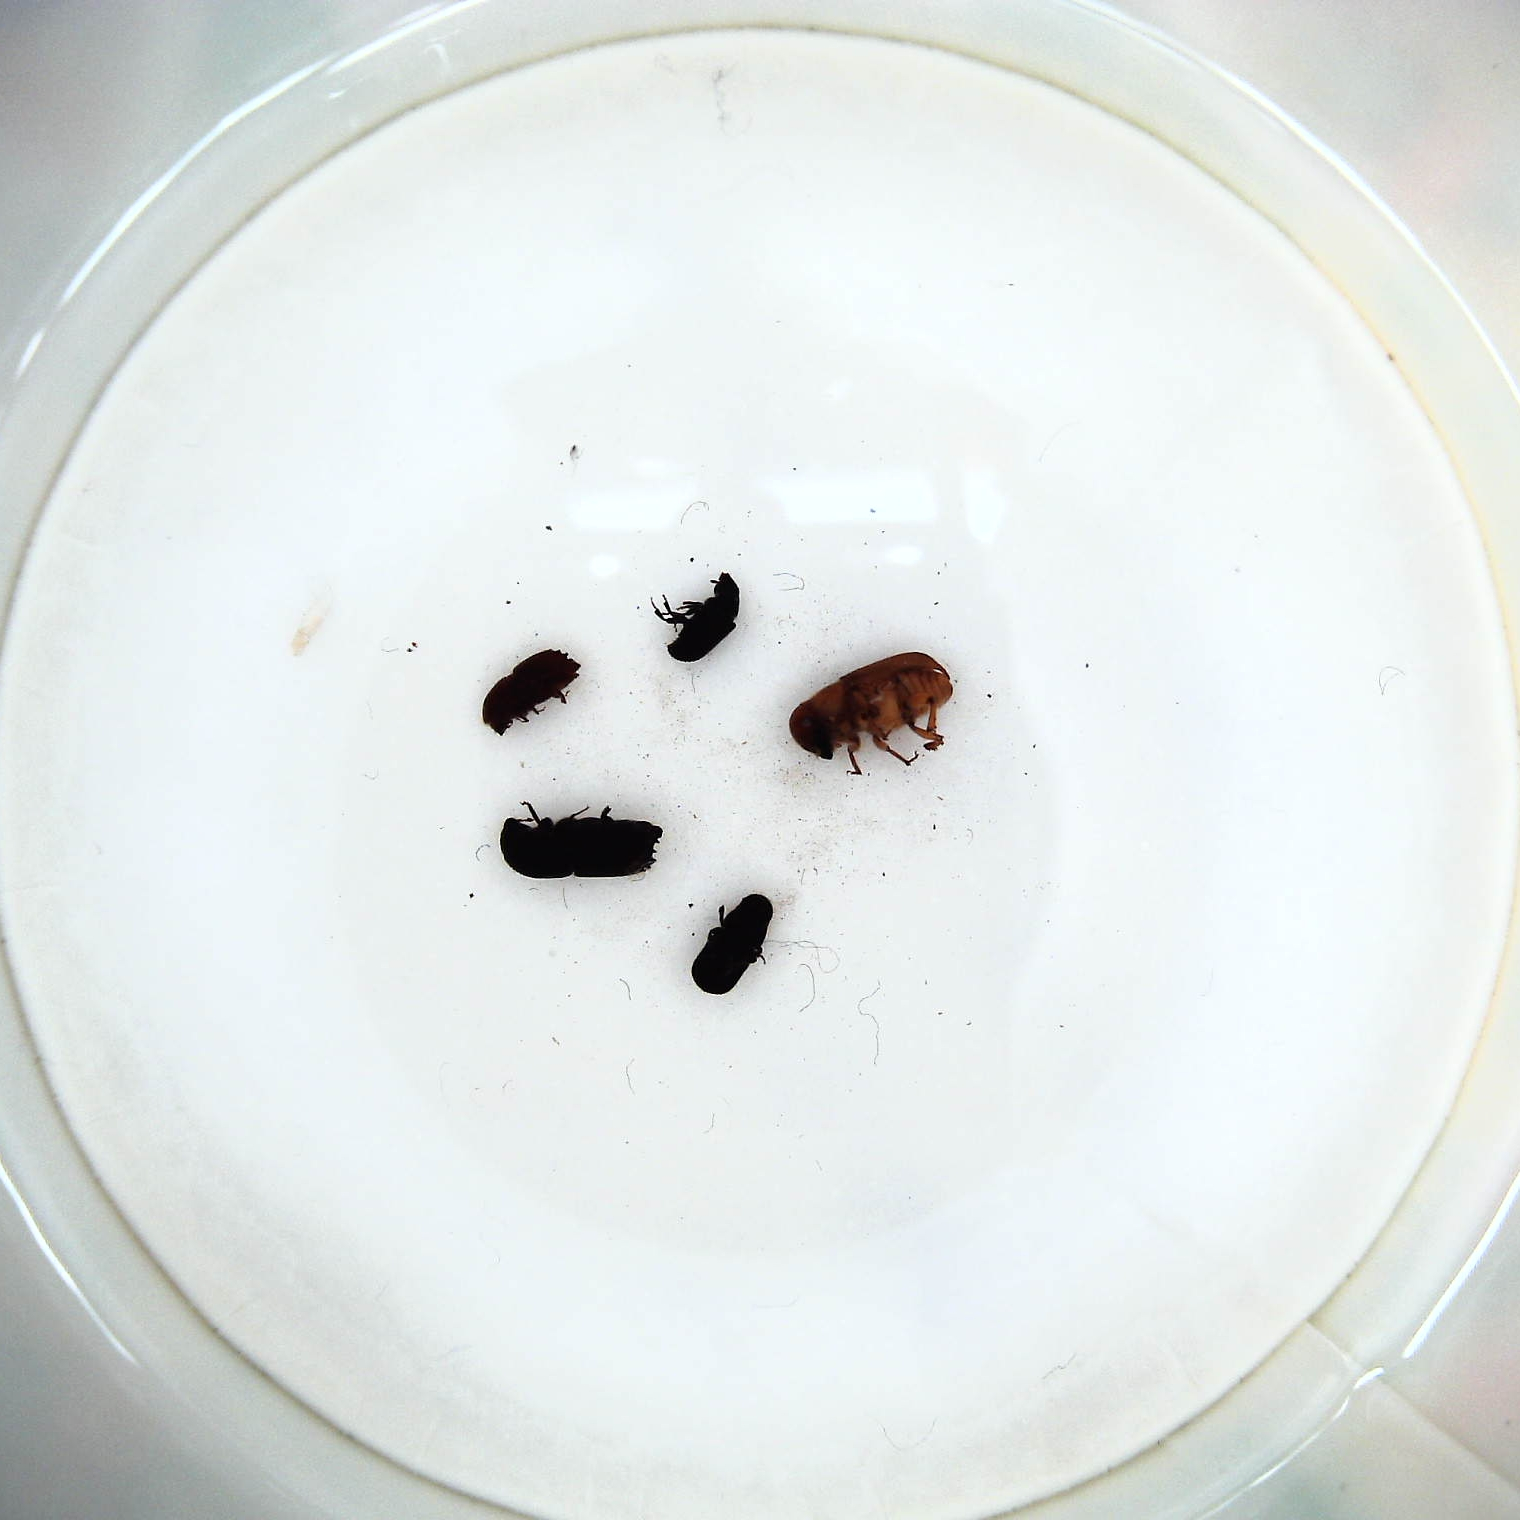Boerner: (498, 800, 671, 889)
Leconte: (788, 644, 960, 778)
armandi: (688, 889, 778, 1002)
coleoptera: (654, 573, 747, 665)
linnaeus: (482, 646, 583, 745)
